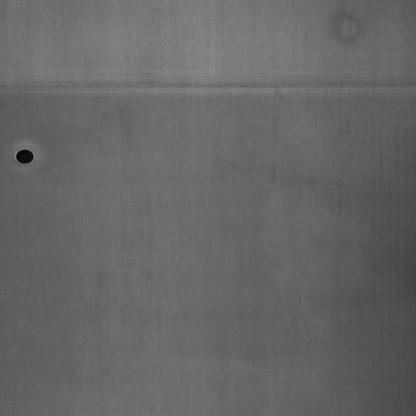punching_hole: (11, 138, 38, 171)
welding_line: (1, 71, 416, 102)
